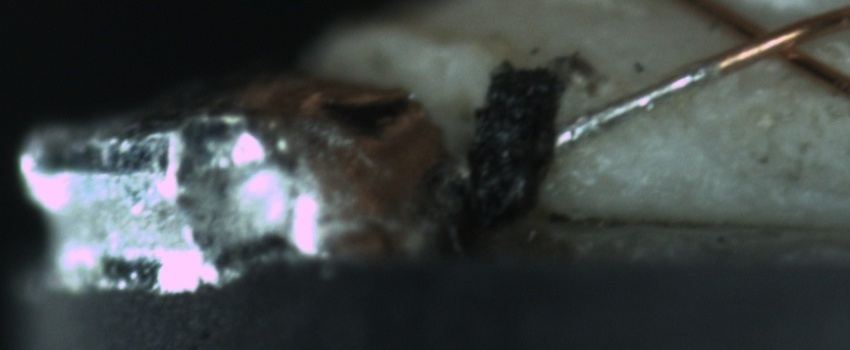CL: (717, 8, 824, 75)
TS: (453, 56, 700, 195)
